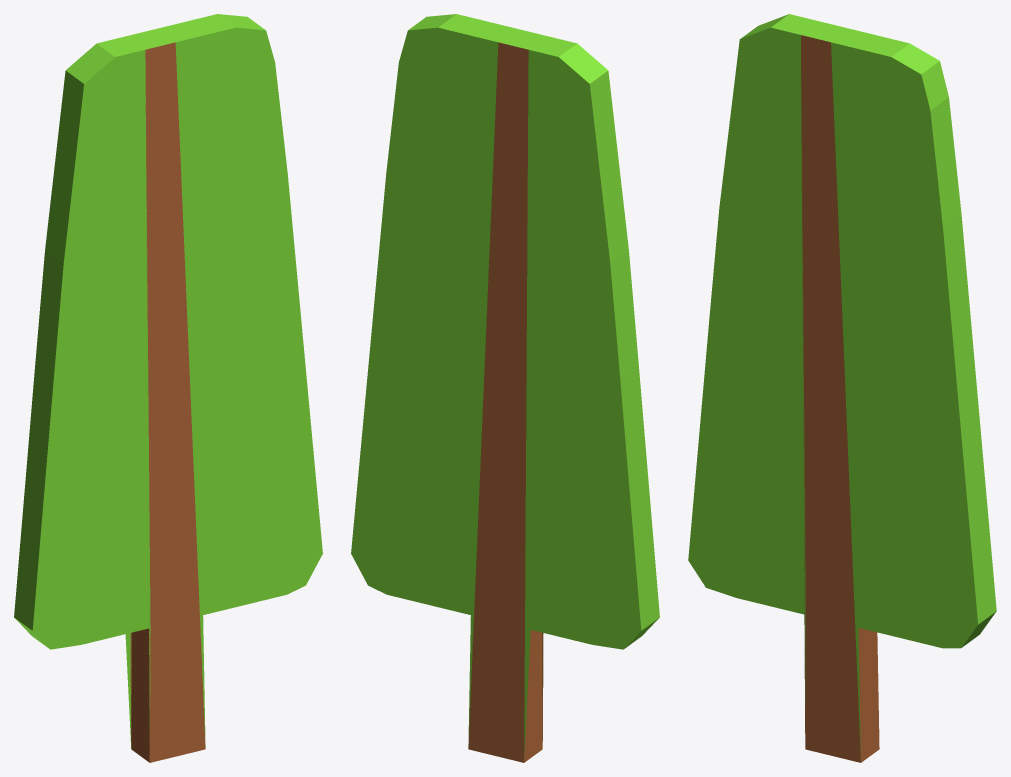
3 renders of one model, left to right at view 1: azimuth 30°, elevation 25°; view 2: azimuth 150°, elevation 25°; view 3: azimuth 330°, elevation 25°, orthographic.
Parts seen in each view (by area): view 1: Cube; view 2: Cube; view 3: Cube.
Boxes of the visible parts, left/top/right/bottom form: Cube: left=14, top=14, right=322, bottom=762; Cube: left=351, top=14, right=659, bottom=762; Cube: left=688, top=14, right=996, bottom=762.
Bounding box in the file's own units: 86.81 × 204 × 9.65.
